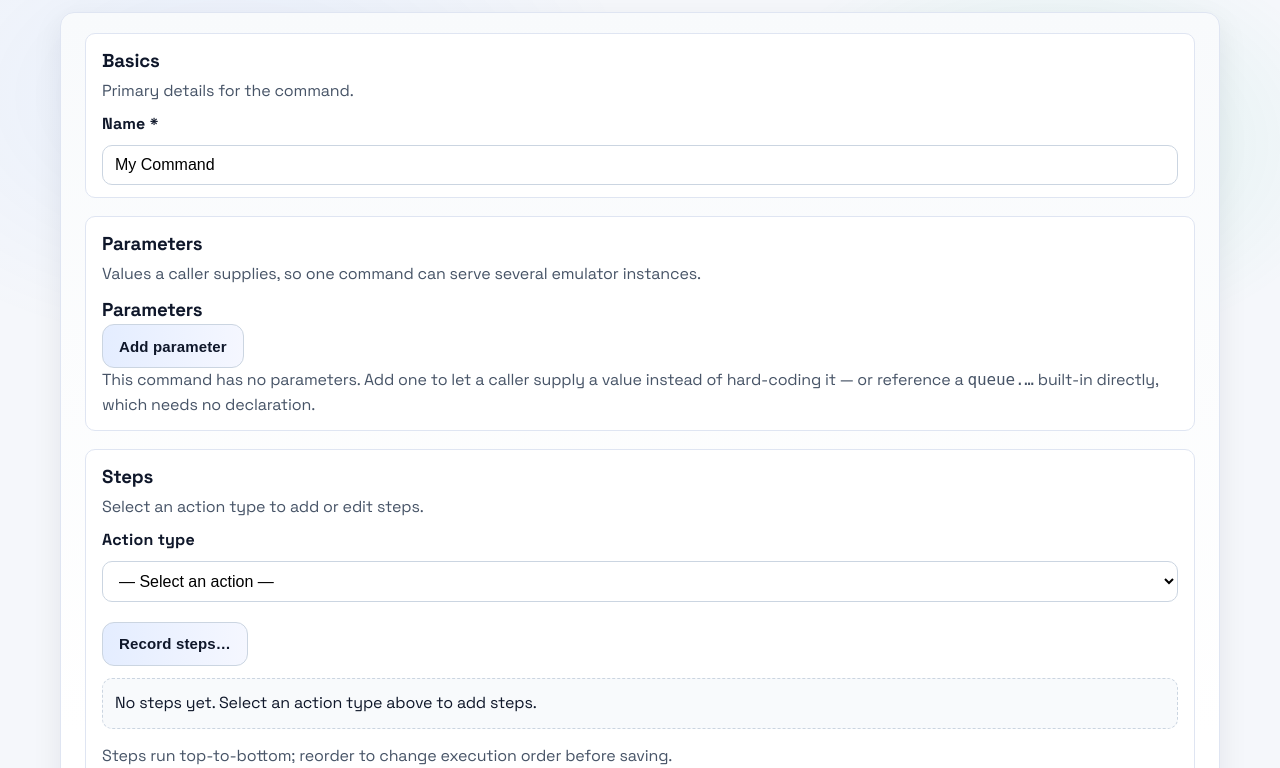
CommandForm — US1: selector and scaffolding › shows Tap panel when PrimitiveTap is selected
The image size is (1280, 768).
Select "Tap" in the dropdown labelled "Action type" at (640, 581), box [102,561,1178,602]
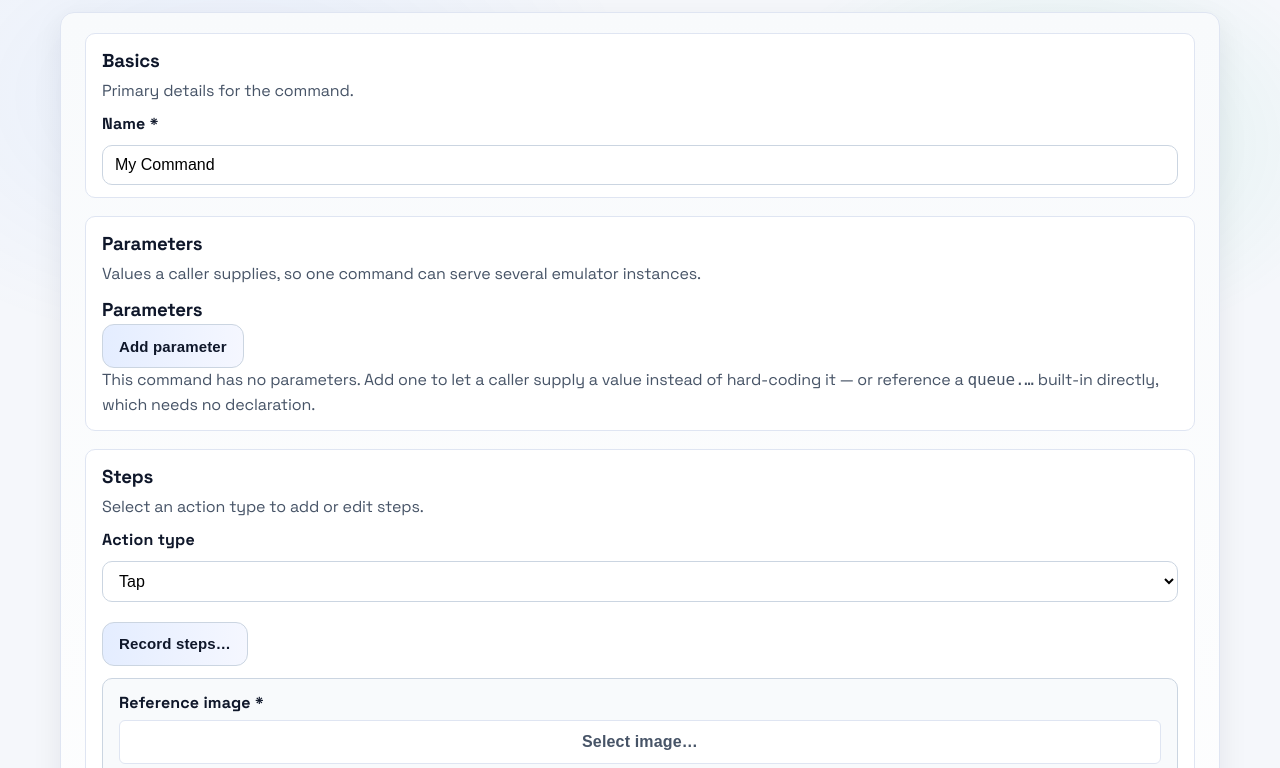
Now the text "Reference image *" is shown, box [119,692,264,713]
